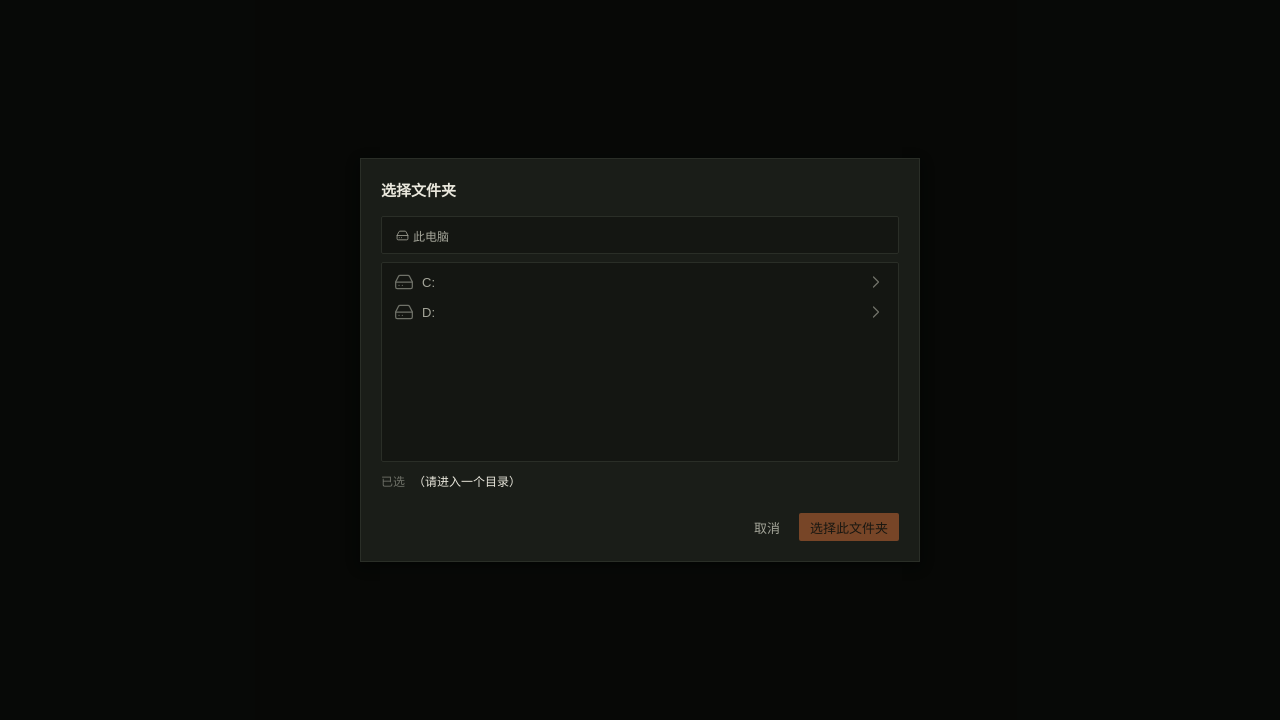
Test: FolderPickerModal › 选中非 git 目录 → 黄条提示不阻止；进入 git 目录无黄条
What coordinates should you click on to do the following:
click the button "D:"
I would click on:
 (404, 312)
Its box is [386,297,894,327].
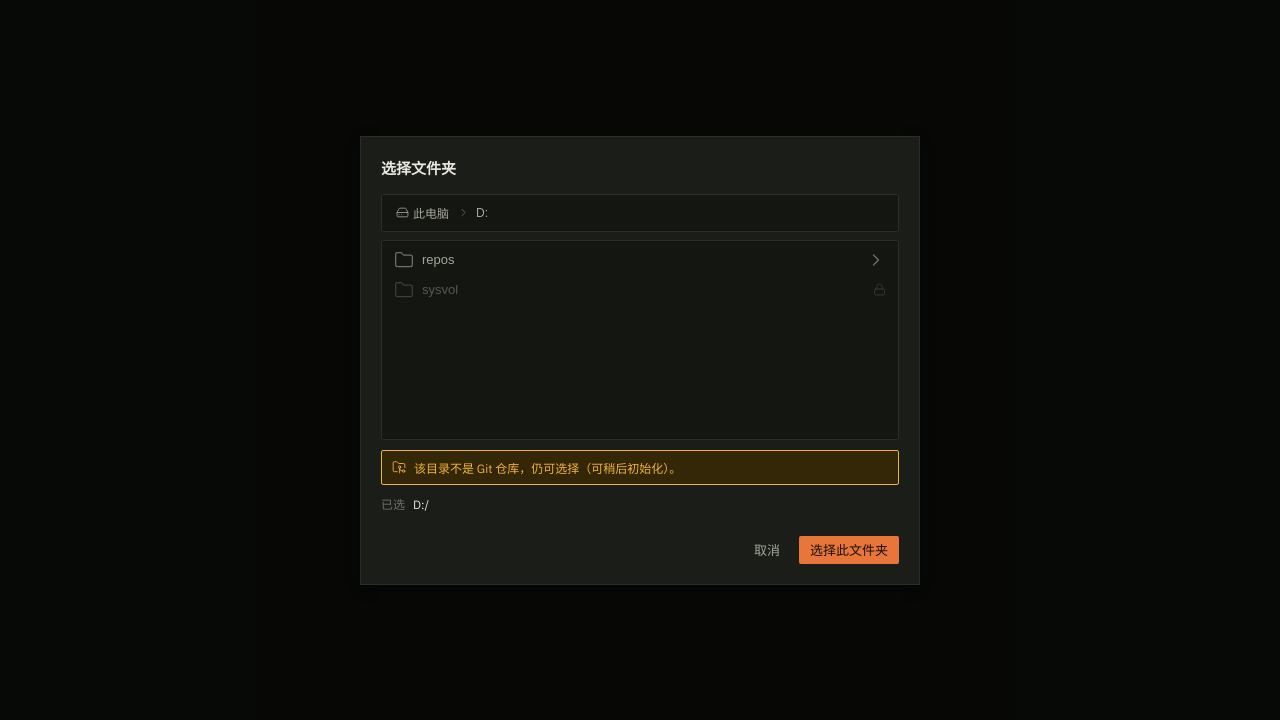
// 进入非 git 的 repos → 黄条。
What coordinates should you click on to do the following:
click the button "repos"
I would click on:
 (438, 260)
Its box is [386,244,894,274].
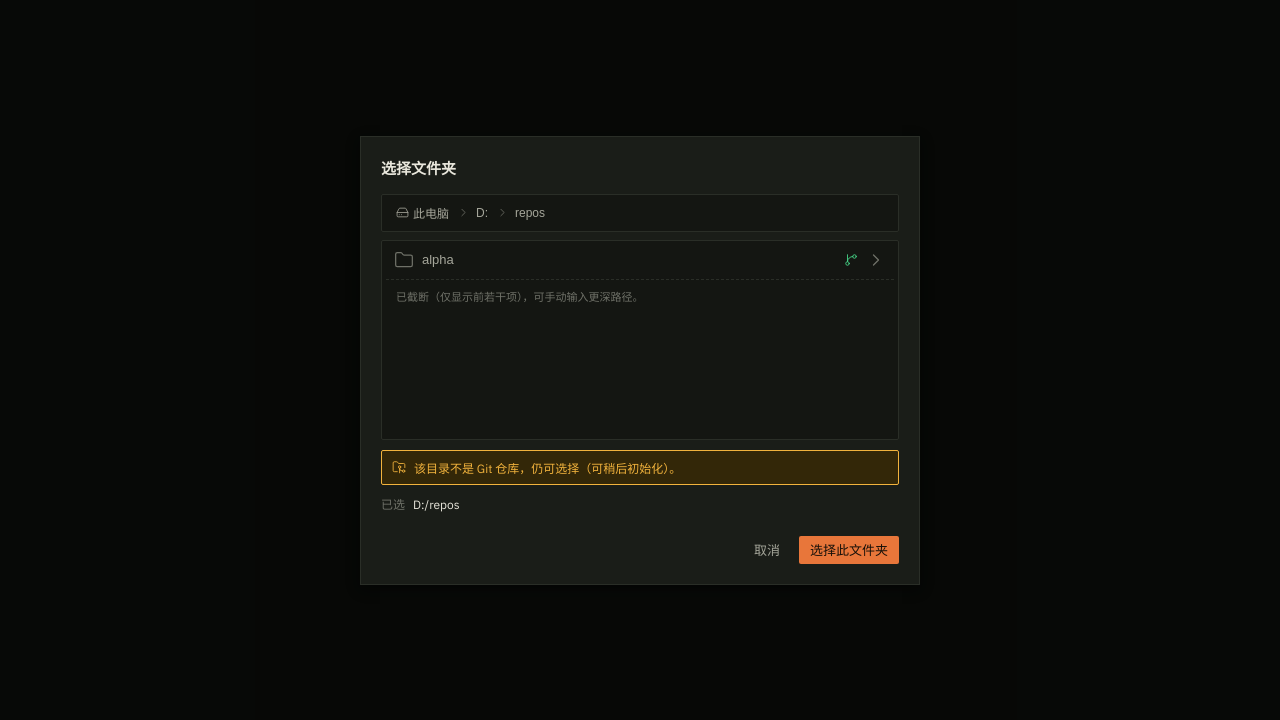
Now the text "该目录不是 Git 仓库，仍可选择（可稍后初始化）。" is shown, box [381,450,899,484]
Now the button "选择此文件夹" is enabled, box [799,536,899,564]
// 进入 git 的 alpha → 无黄条（列表异步加载，findBy 等待）。
What coordinates should you click on to do the following:
click the button "alpha"
I would click on:
 (438, 260)
Its box is [386,244,894,274].
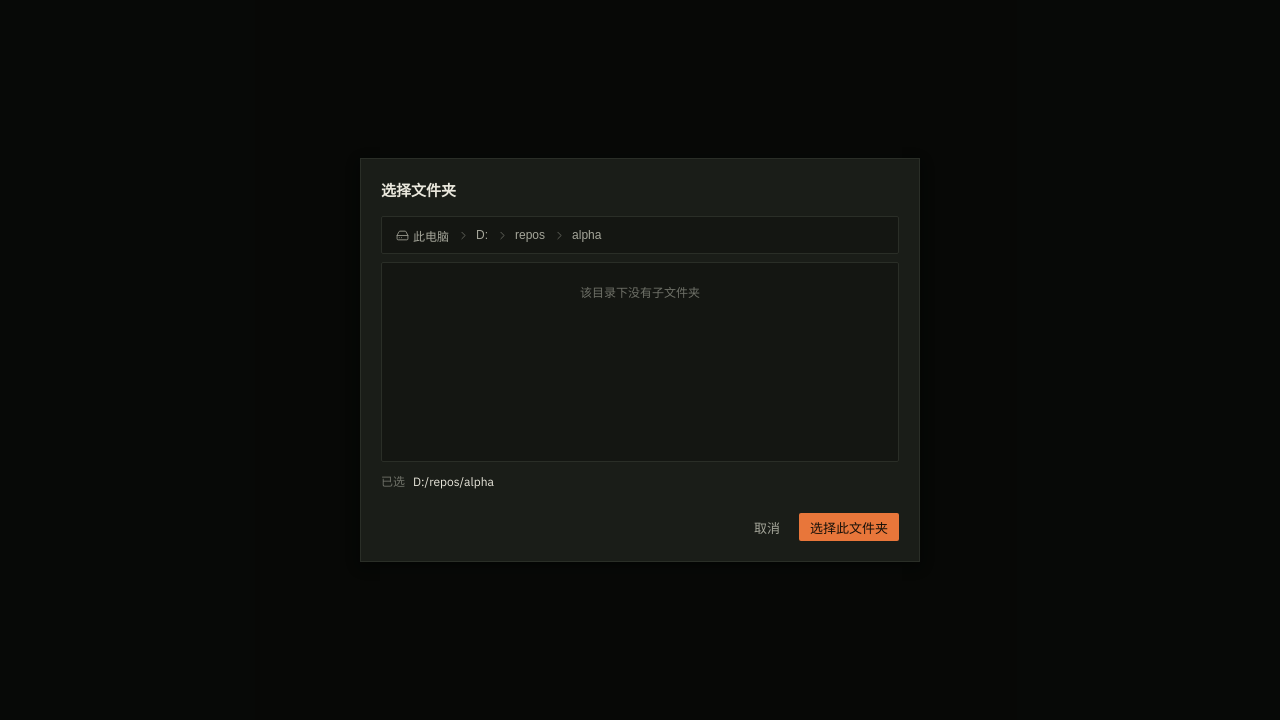
Now the text "不是 Git 仓库" is gone
